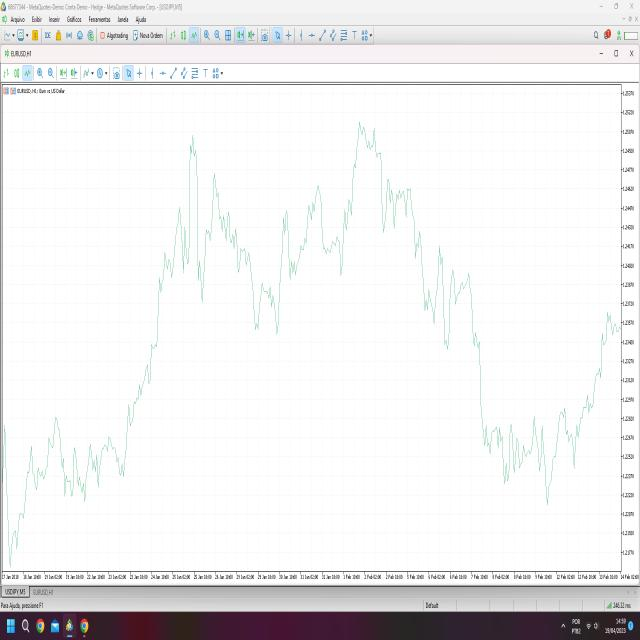bandeira_baixa: (468, 261, 532, 495)
fundo_duplo: (241, 202, 287, 349)
